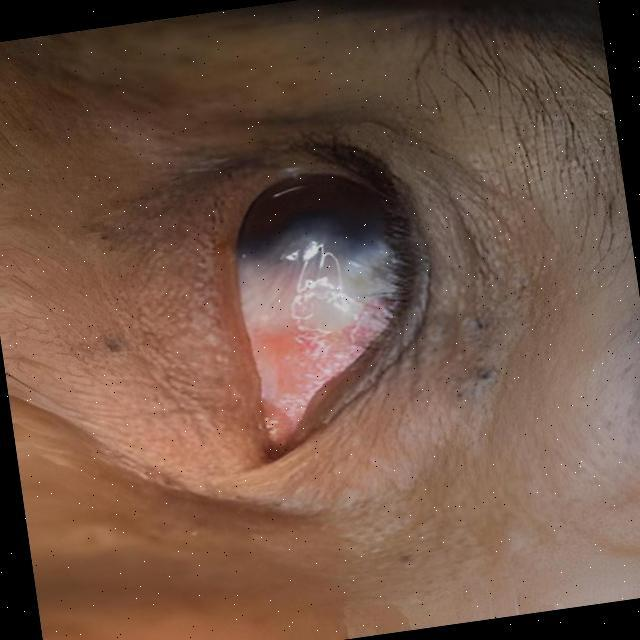Pterygium: (232, 229, 396, 415)
